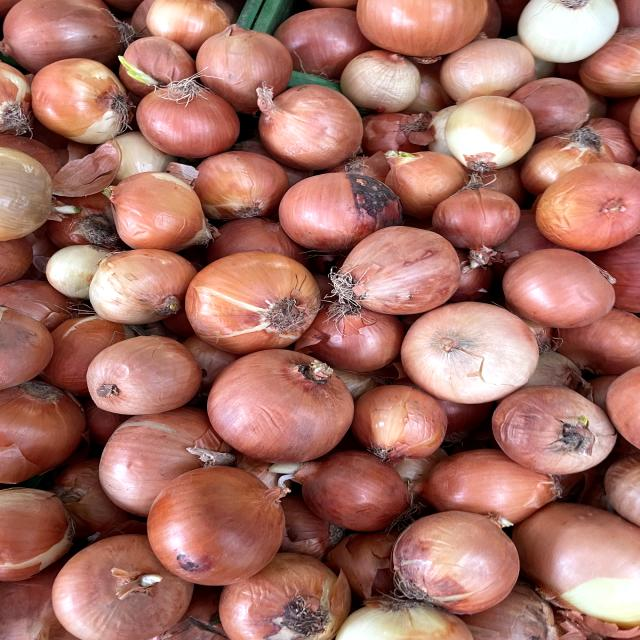onion: (195, 341, 372, 470), (134, 459, 306, 588), (368, 498, 539, 616), (394, 298, 546, 407), (179, 248, 328, 354), (81, 333, 207, 420), (23, 53, 138, 148), (428, 165, 528, 264), (133, 74, 244, 163), (80, 243, 196, 324), (431, 93, 540, 171), (190, 149, 294, 223)
